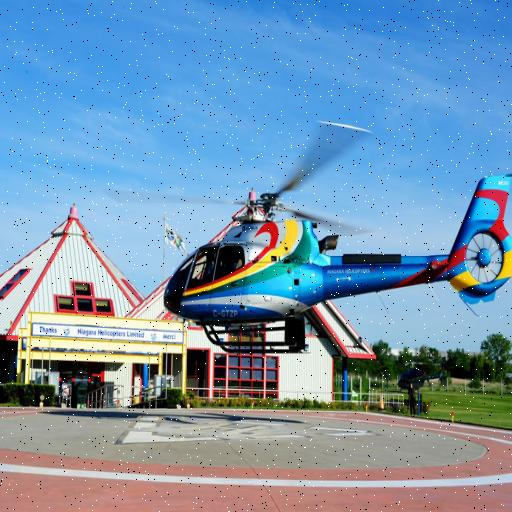helicopter: (102, 117, 466, 370)
